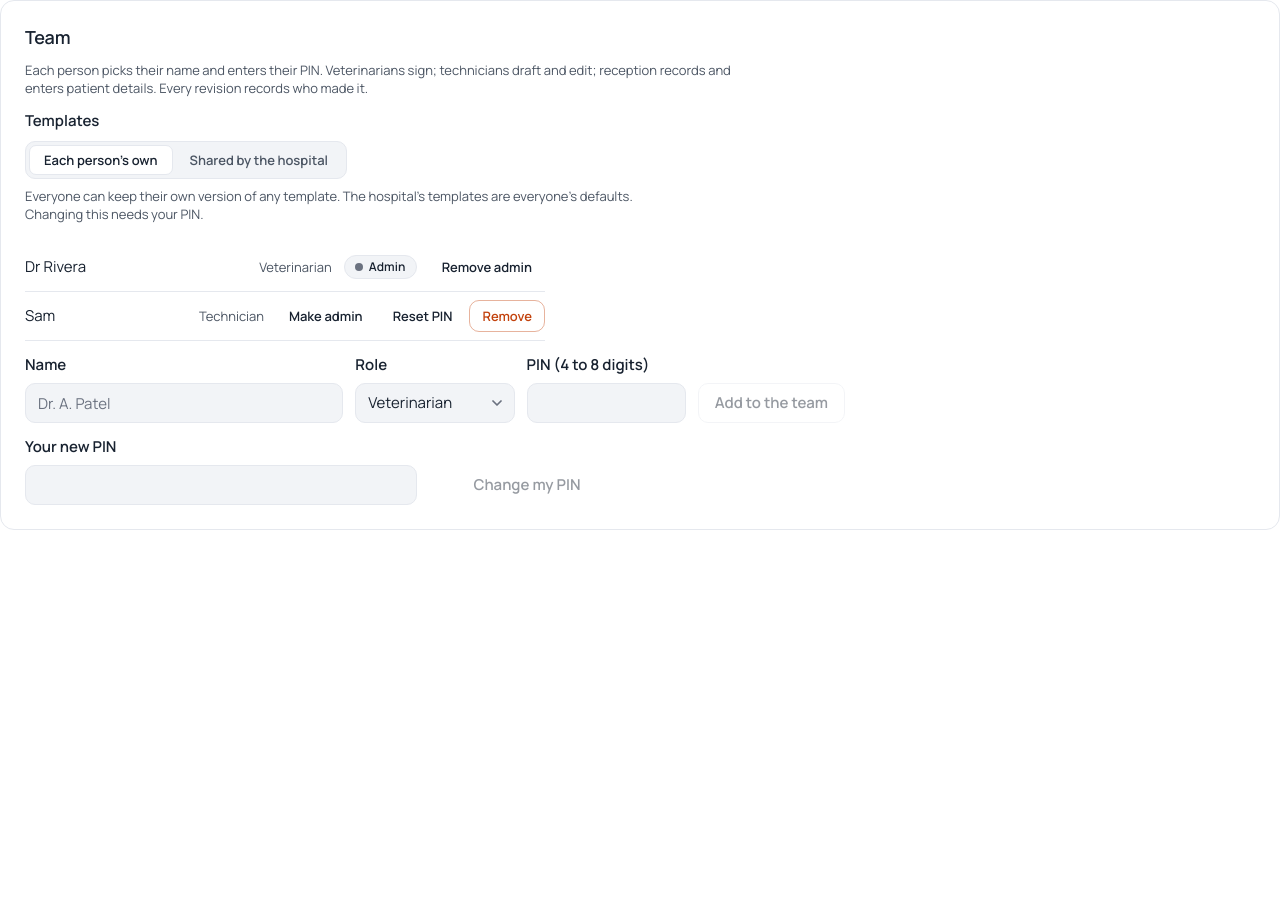
Test: TeamSettings › says how many versions go with a removed member
Expected: the text "Admin" is shown, top-left (344, 255), bottom-right (417, 279)
Click the button with aria-label "Remove Sam": (507, 316) top-left (469, 300), bottom-right (545, 332)
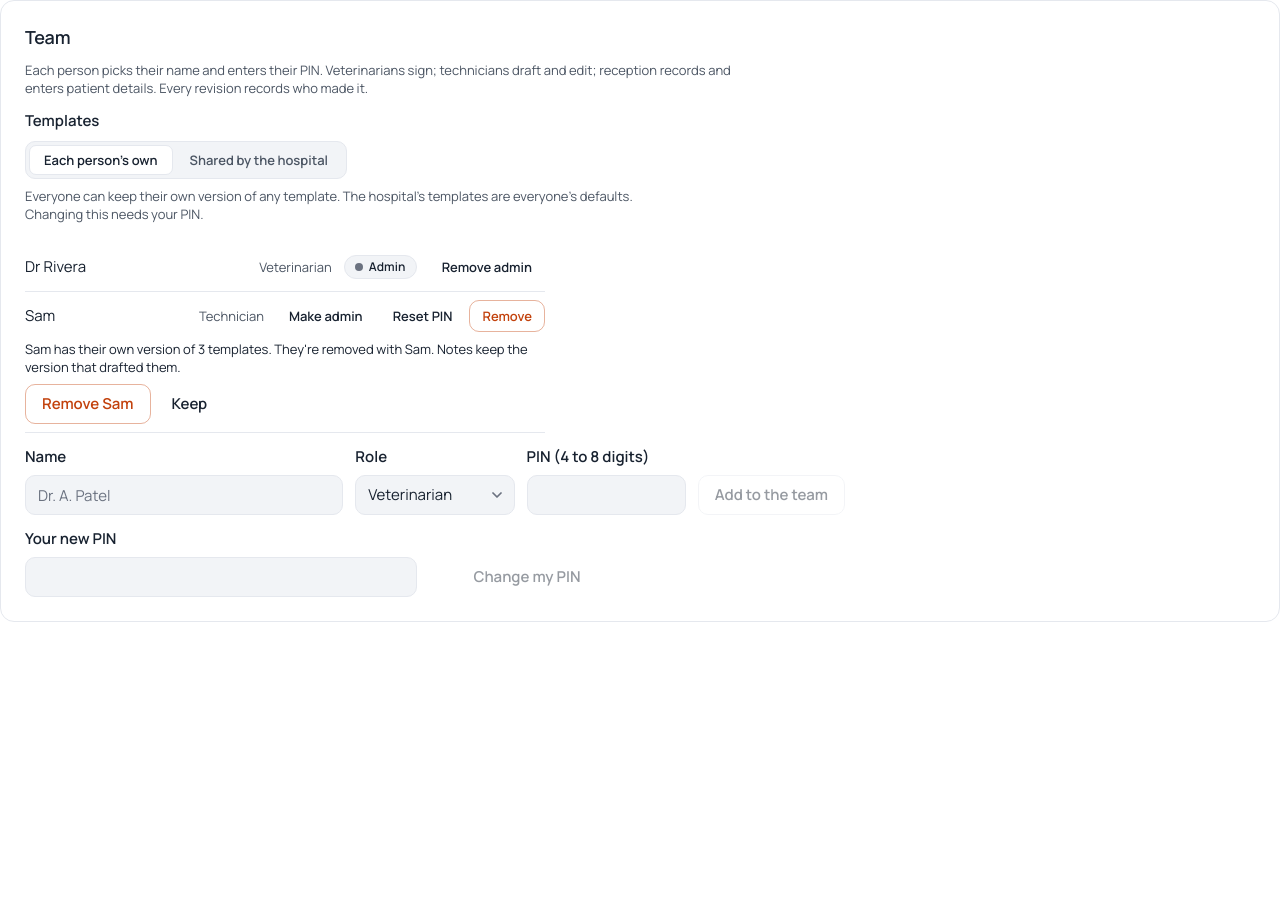
Now the text "Sam has their own version of 3 templates. They're removed with Sam. Notes keep the version that drafted them." is shown, box top-left (25, 340), bottom-right (528, 376)
